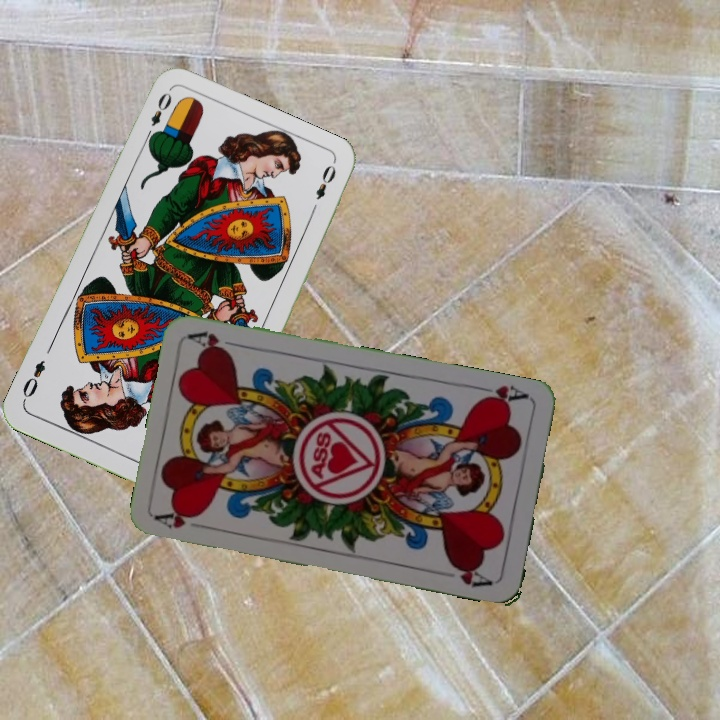EO: (141, 88, 175, 144)
HA: (473, 381, 532, 409), (153, 506, 212, 531)
